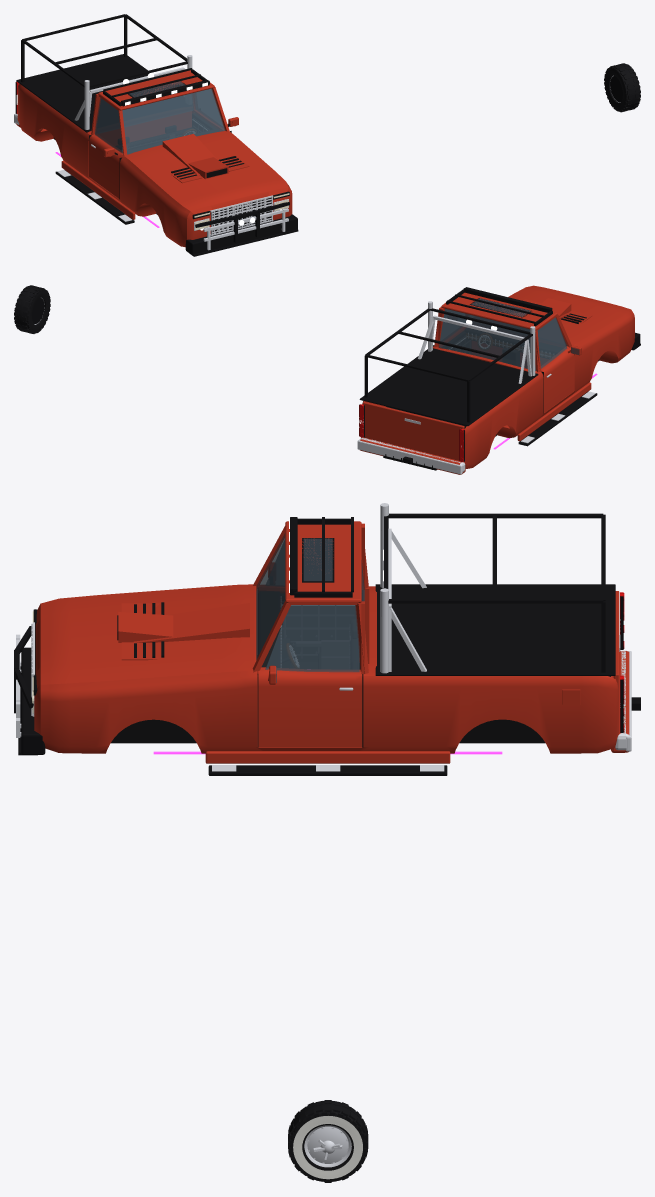
Rendered from DusterRidge54.glb.
3 views of the same model, one above another, from view 1: azimuth 30°, elevation 25°; view 2: azimuth 150°, elevation 25°; view 3: azimuth 270°, elevation 25° (orthographic). The views are drawn at different scales.
Visible parts, largest first — view 1: DusterRidge54_PanelHood, DusterRidge54_PanelSideR, DusterRidge54_Glass, DusterRidge54_OptBedCoverDark, DusterRidge54_Body, DusterRidge54_OptFrontBumperBullDark, DusterRidge54_OptBedRackDark, DusterRidge54_RoofGlass, DusterRidge54_PanelDoorR, DusterRidge54_PanelRoof, DusterRidge54Wheel_TireOffroadRubber, DusterRidge54_OptHoodCowlBody (+15 smaller); view 2: DusterRidge54_OptBedCoverDark, DusterRidge54_PanelSideR, DusterRidge54_Lid, DusterRidge54_RoofGlass, DusterRidge54_PanelHood, DusterRidge54_OptBedRackDark, DusterRidge54_PanelDoorR, DusterRidge54_PanelRoof, DusterRidge54_Body, DusterRidge54Wheel_TireOffroadRubber, DusterRidge54_OptRearBumperTubeChrome, DusterRidge54_OptBedRollbarChrome (+14 smaller); view 3: DusterRidge54_PanelSideL, DusterRidge54_OptBedCoverDark, DusterRidge54_PanelHood, DusterRidge54_PanelDoorL, DusterRidge54_RoofGlass__WinDoorL, DusterRidge54_OptBedRackDark, DusterRidge54_PanelRoof, DusterRidge54_OptSkirtsRockerBody, DusterRidge54_Under, DusterRidge54_OptHoodCowlBody, DusterRidge54_OptSkirtsStepsDark, DusterRidge54_RoofBody (+13 smaller).
Boxes of the visible parts, x1,y1,x2,y2 form: DusterRidge54_PanelHood: (125, 131, 289, 214); DusterRidge54_PanelSideR: (17, 84, 188, 246); DusterRidge54_Glass: (122, 88, 225, 154); DusterRidge54_OptBedCoverDark: (16, 54, 148, 132); DusterRidge54_Body: (35, 111, 292, 247); DusterRidge54_OptFrontBumperBullDark: (185, 202, 297, 255); DusterRidge54_OptBedRackDark: (21, 14, 187, 87); DusterRidge54_RoofGlass: (97, 94, 192, 132); DusterRidge54_PanelDoorR: (89, 134, 123, 198); DusterRidge54_PanelRoof: (98, 70, 214, 110); DusterRidge54Wheel_TireOffroadRubber: (604, 63, 640, 112); DusterRidge54_OptHoodCowlBody: (162, 134, 217, 175); DusterRidge54_OptBedCoverDark: (359, 348, 538, 426); DusterRidge54_PanelSideR: (463, 311, 634, 468); DusterRidge54_Lid: (362, 401, 464, 460); DusterRidge54_RoofGlass: (439, 308, 535, 370); DusterRidge54_PanelHood: (508, 285, 632, 345); DusterRidge54_OptBedRackDark: (364, 308, 532, 422); DusterRidge54_PanelDoorR: (541, 346, 574, 412); DusterRidge54_PanelRoof: (441, 292, 557, 330); DusterRidge54_Body: (362, 341, 618, 467); DusterRidge54Wheel_TireOffroadRubber: (14, 285, 50, 333); DusterRidge54_OptRearBumperTubeChrome: (357, 440, 462, 474); DusterRidge54_OptBedRollbarChrome: (418, 315, 531, 383); DusterRidge54_PanelSideL: (40, 671, 619, 753); DusterRidge54_OptBedCoverDark: (375, 584, 615, 675); DusterRidge54_PanelHood: (35, 584, 254, 690); DusterRidge54_PanelDoorL: (258, 667, 362, 746); DusterRidge54_RoofGlass__WinDoorL: (265, 605, 359, 672); DusterRidge54_OptBedRackDark: (384, 513, 605, 672); DusterRidge54_PanelRoof: (285, 521, 361, 602); DusterRidge54_OptSkirtsRockerBody: (205, 751, 450, 763); DusterRidge54_Under: (111, 719, 545, 743); DusterRidge54_OptHoodCowlBody: (134, 603, 249, 642); DusterRidge54_OptSkirtsStepsDark: (208, 765, 447, 775); DusterRidge54_RoofBody: (252, 523, 368, 674).
Bounding box in the file's own units: 34.93 × 8.74 × 20.5.
